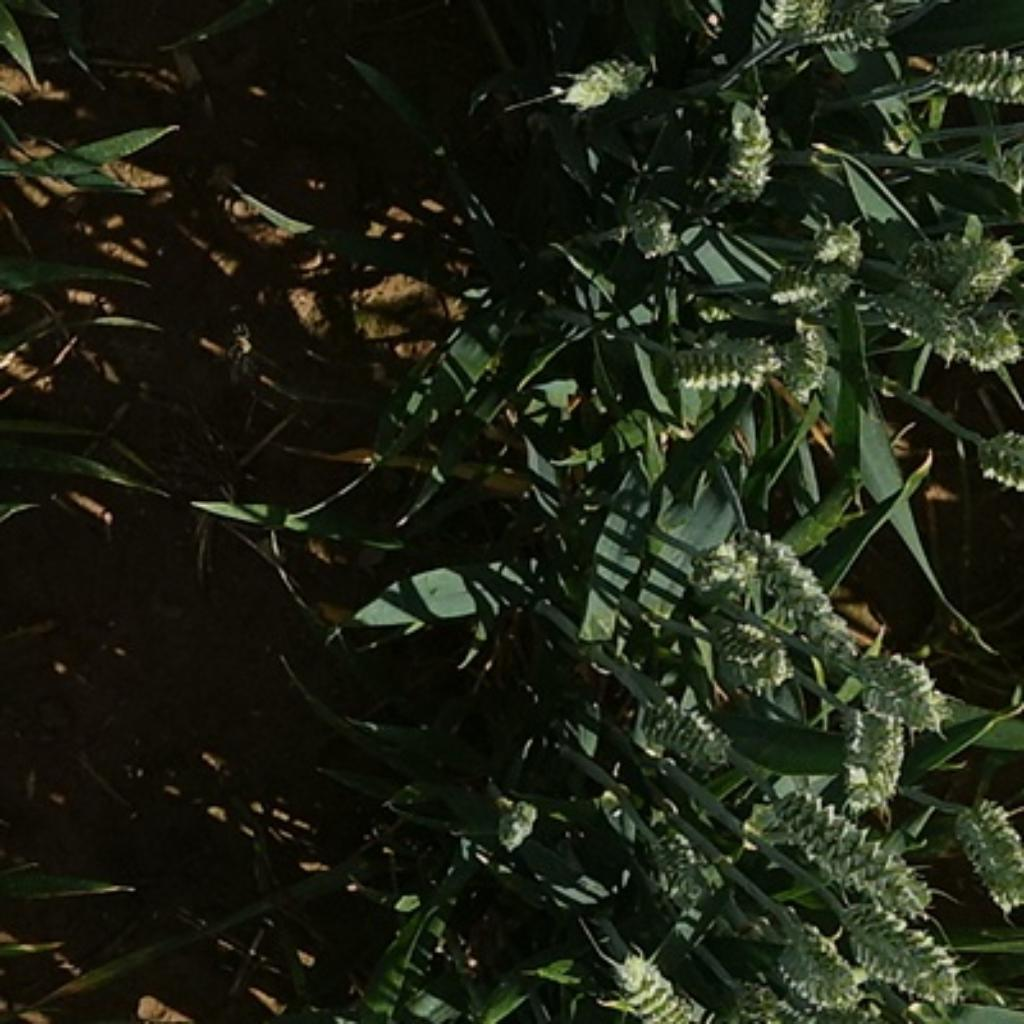0-0: (757, 788, 929, 916), (742, 527, 860, 650), (839, 906, 967, 1003), (905, 228, 1023, 322), (944, 783, 1024, 919), (619, 683, 732, 775), (663, 325, 791, 404), (829, 686, 913, 806), (773, 913, 862, 1013), (849, 642, 947, 732), (704, 87, 780, 202), (629, 816, 719, 908), (706, 606, 798, 693), (872, 279, 967, 363), (599, 949, 704, 1024), (760, 238, 857, 317), (925, 308, 1022, 384), (924, 35, 1024, 107), (555, 46, 657, 112), (609, 179, 686, 258), (965, 412, 1024, 509), (757, 322, 829, 399), (668, 542, 747, 599), (822, 3, 902, 51), (757, 0, 837, 43), (803, 217, 862, 273), (906, 275, 979, 320), (491, 791, 542, 852), (939, 0, 1008, 2)
